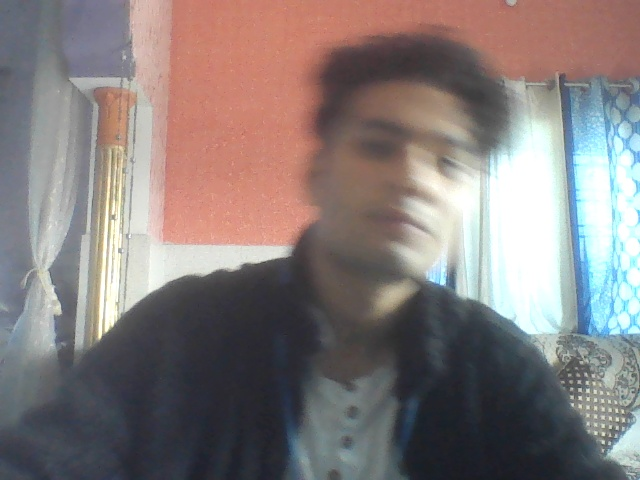real: (306, 32, 489, 292)
